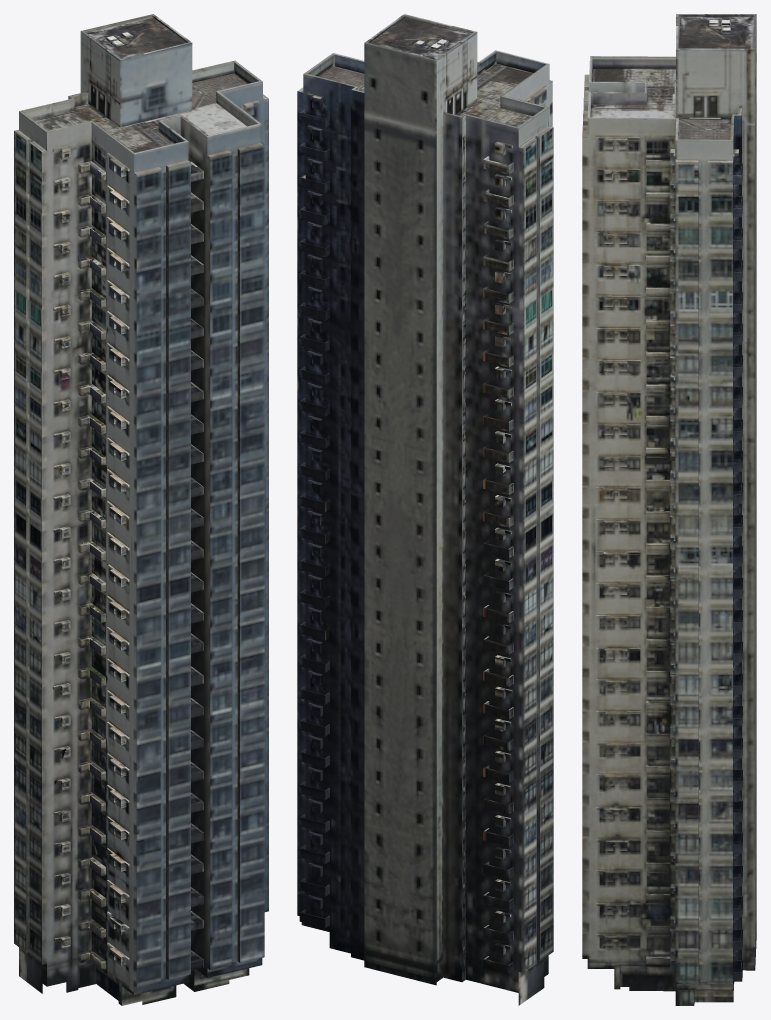
Rendered from input.glb.
3 views of the same model, side by side, from view 1: azimuth 30°, elevation 25°; view 2: azimuth 150°, elevation 25°; view 3: azimuth 270°, elevation 25° (orthographic).
Visible parts, largest first — view 1: B212263385501063A0; view 2: B212263385501063A0; view 3: B212263385501063A0.
Part boxes in pixels (<box>): B212263385501063A0: <box>14,14,268,1005</box>; B212263385501063A0: <box>297,14,553,1005</box>; B212263385501063A0: <box>582,14,756,1005</box>.
Bounding box in the file's own units: 21.48 × 83.7 × 14.21.
1 material, 1 textured.
